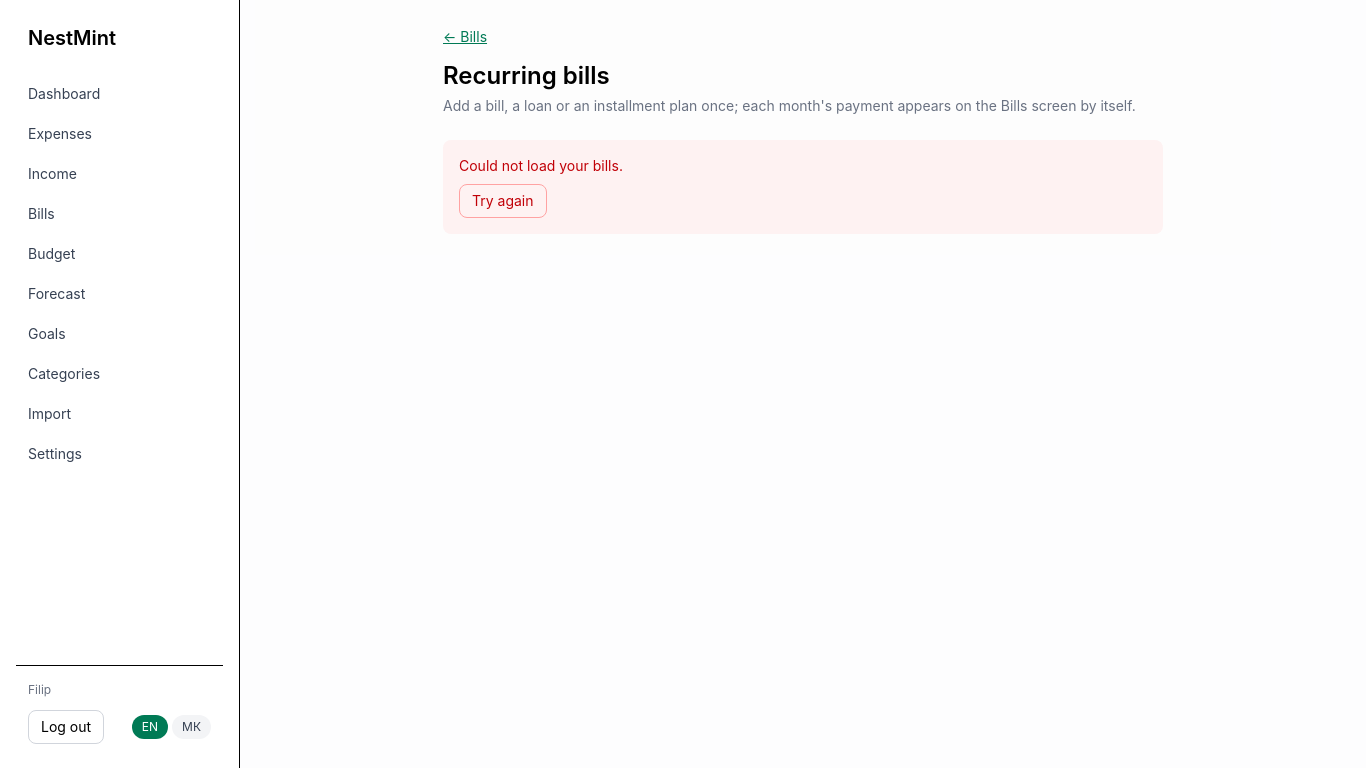
ObligationsPage: showing › shows an error with a way to try again
The width and height of the screenshot is (1366, 768).
Expected: the message shows "Could not load your bills.", [459,157,623,174]
Click the button "Try again" at coordinates (503, 201), box [459,184,546,218]
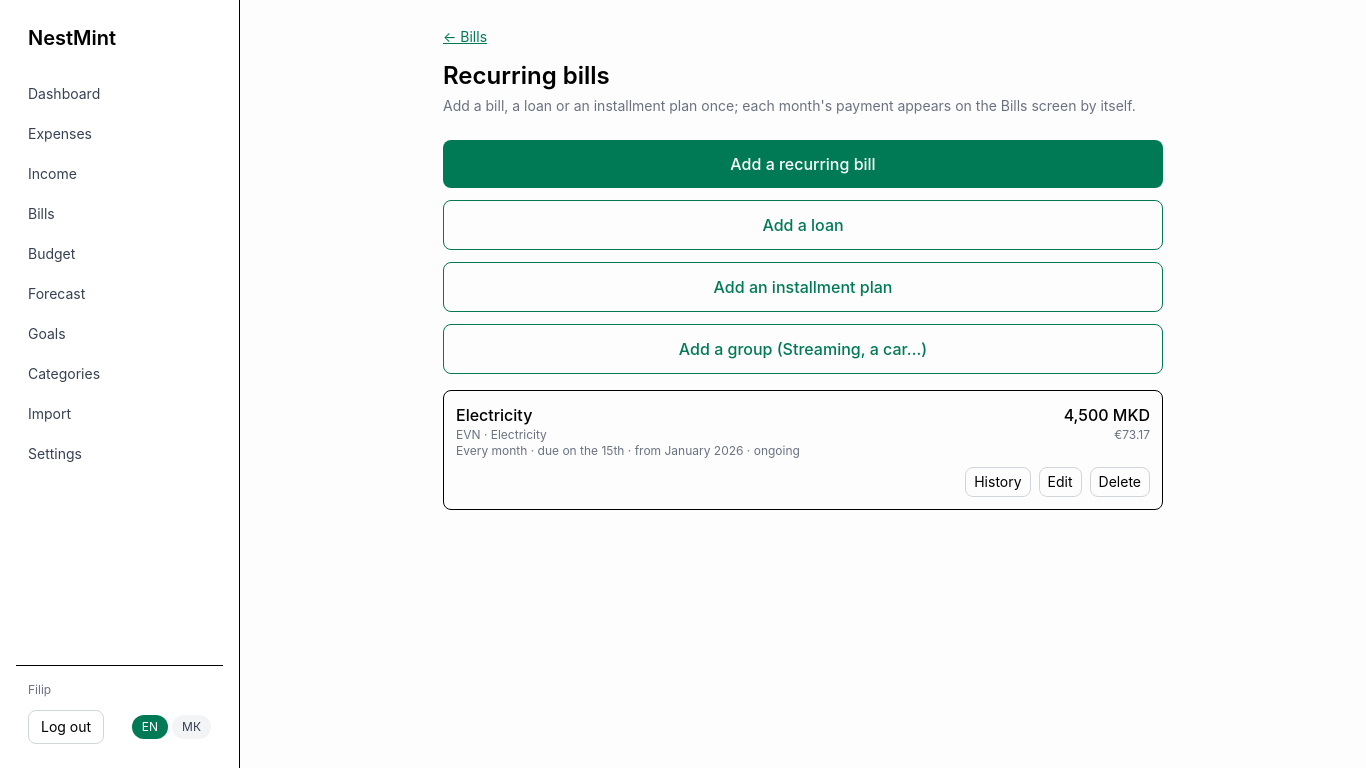
Expected: the button "Add a recurring bill" is shown, [443,140,1163,188]
Expected: the text "Electricity" is shown, [456,405,532,425]
